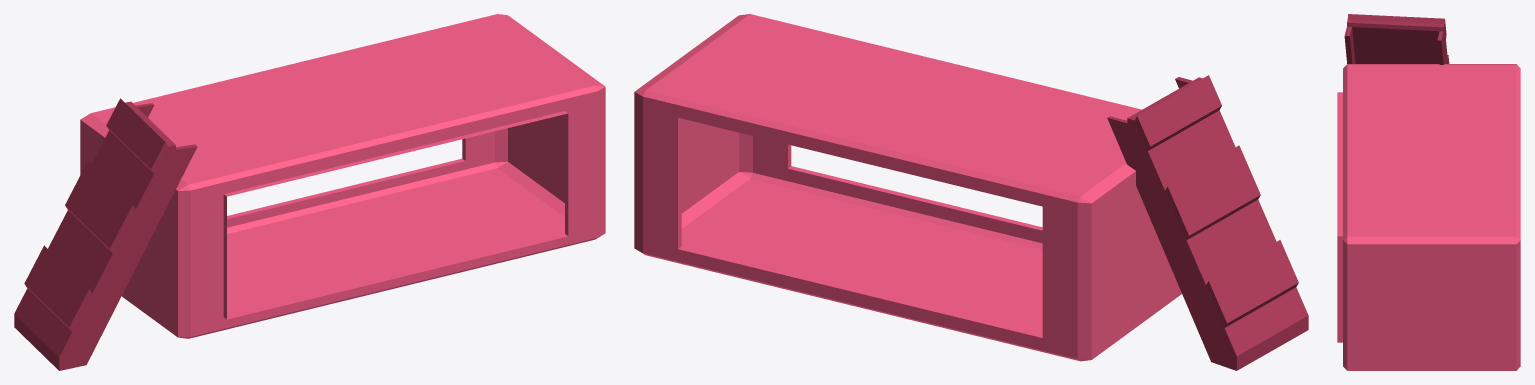
File: SM_house_11.fbx
3 renders of one model, left to right at view 1: azimuth 30°, elevation 25°; view 2: azimuth 150°, elevation 25°; view 3: azimuth 270°, elevation 25°, orthographic. The views are drawn at different scales.
Visible parts, largest first — view 1: SM_house_9; view 2: SM_house_9; view 3: SM_house_9.
Part boxes in pixels (<box>): SM_house_9: <box>14,14,605,370</box>; SM_house_9: <box>634,14,1308,370</box>; SM_house_9: <box>1337,14,1520,370</box>.
Size of the model in its own units: 800 by 2347 by 871.
